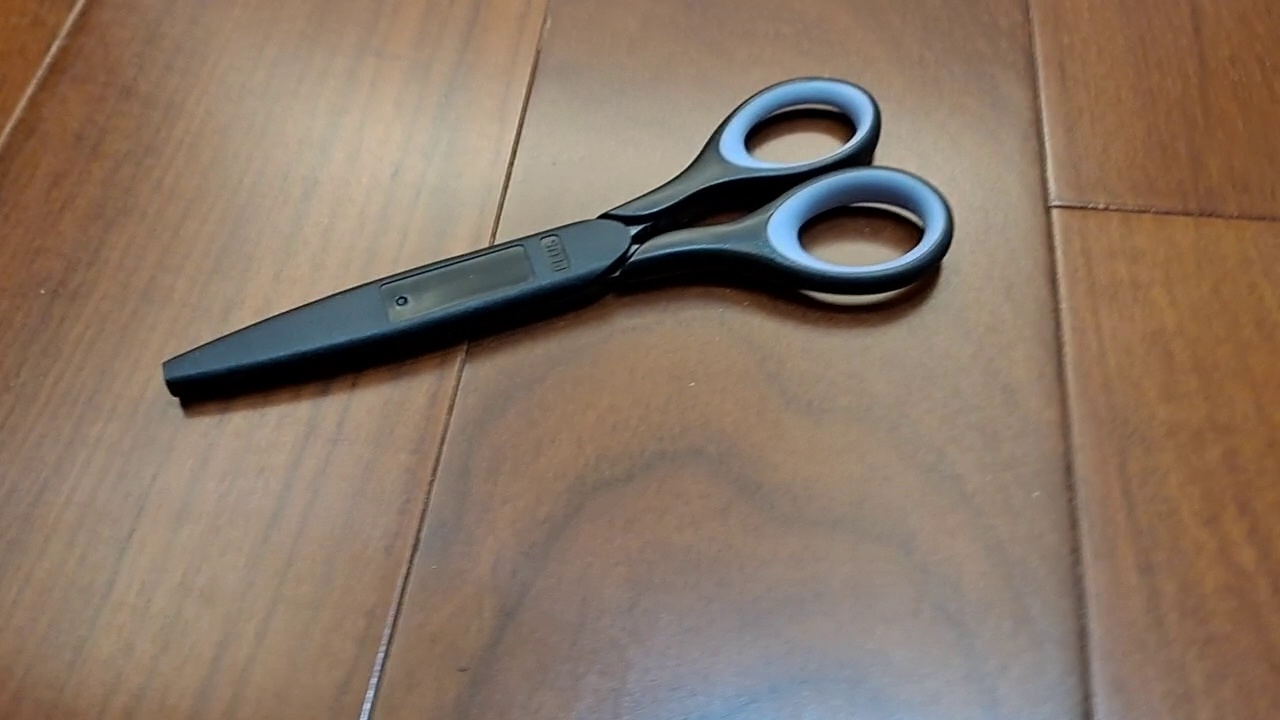scissors: (159, 74, 957, 412)
